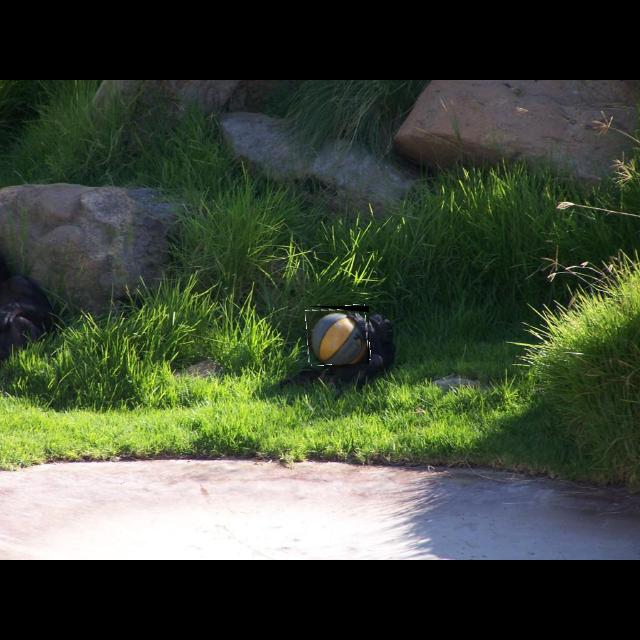Football: (307, 306, 369, 364)
